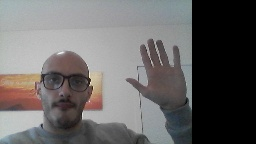Mano_aperta: (122, 34, 189, 114)
